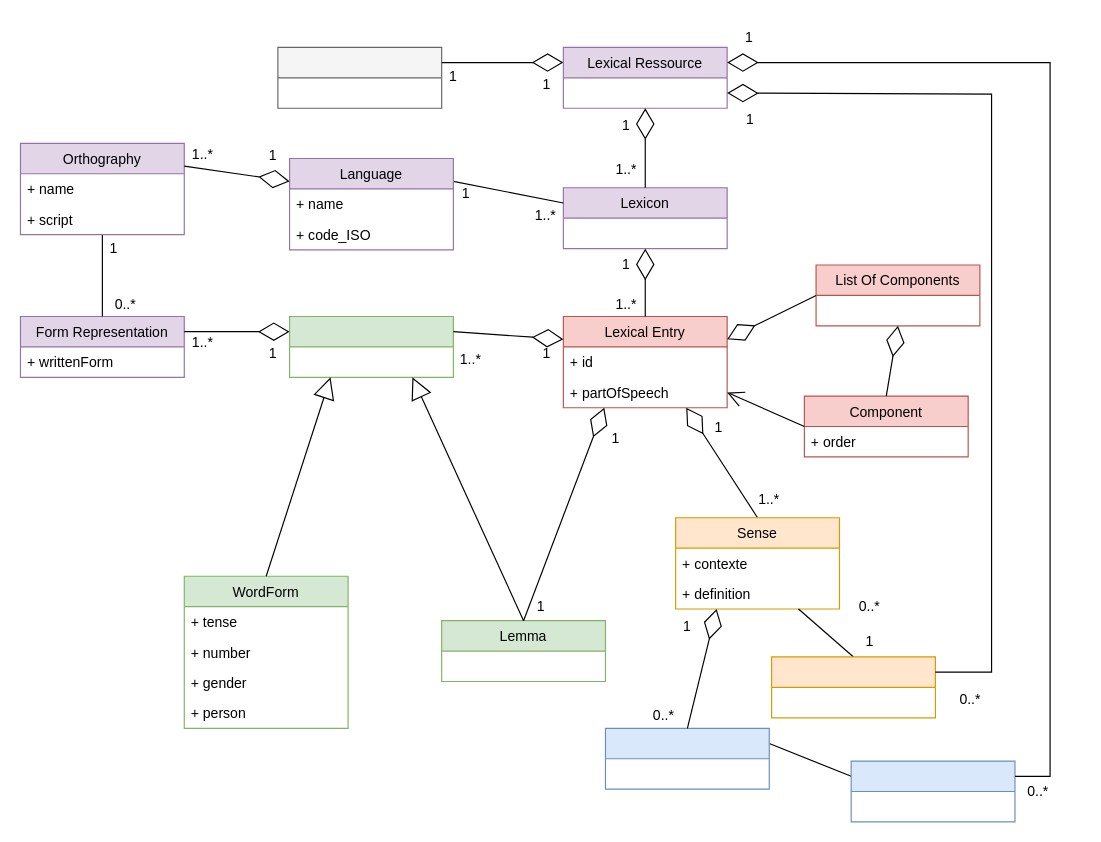
Some shapes in this 1101 by 842 pixel diagram are drawn without their labels. The centre of each missing label's shape, as x and y in pixels:
"Example Axis" goes at pixel 932 791.
"Global Informations" goes at pixel 359 77.
"Lexical Form" goes at pixel 370 346.
"Sense Axis" goes at pixel 852 687.
"Sense Example" goes at pixel 686 758.
